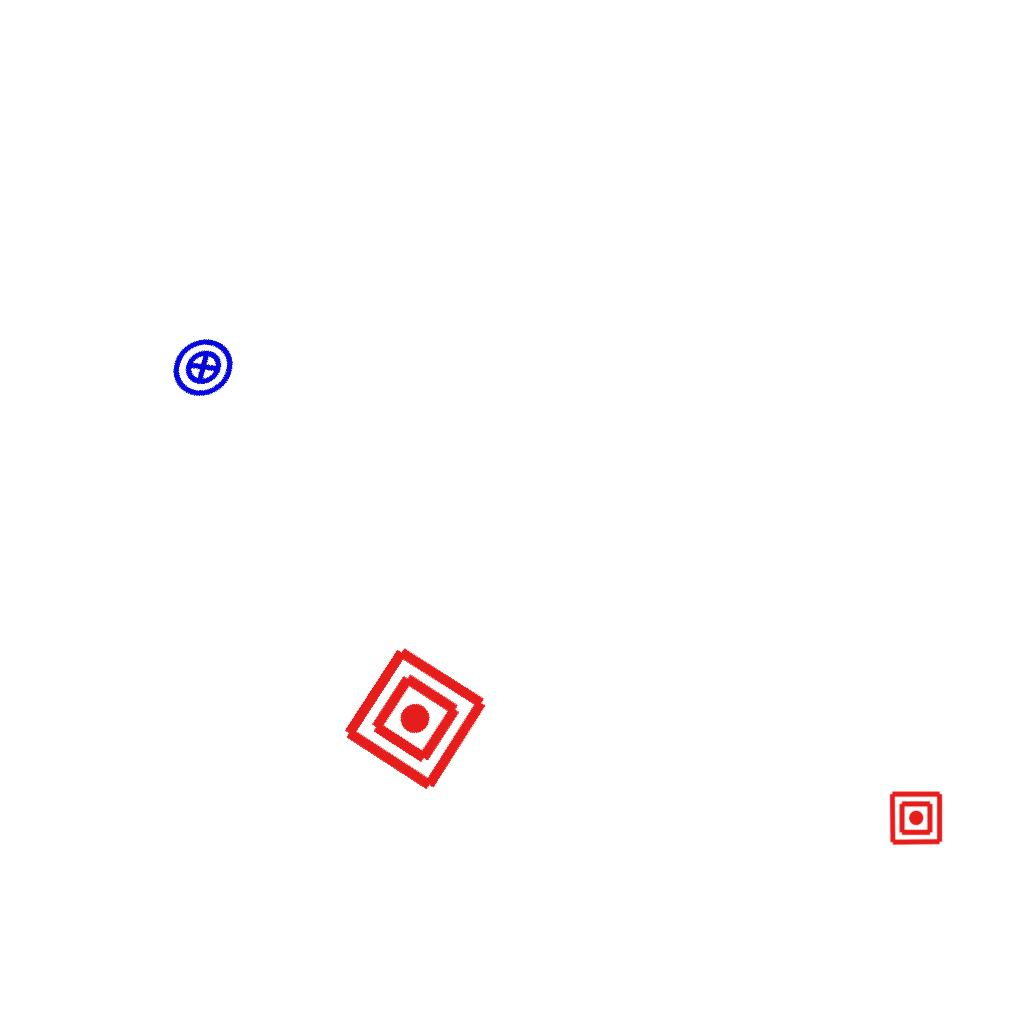NAM-Nichtautomatischer_Melder: (337, 640, 494, 797), (888, 790, 944, 846)
Taster_beleuchtet: (157, 321, 249, 413)
